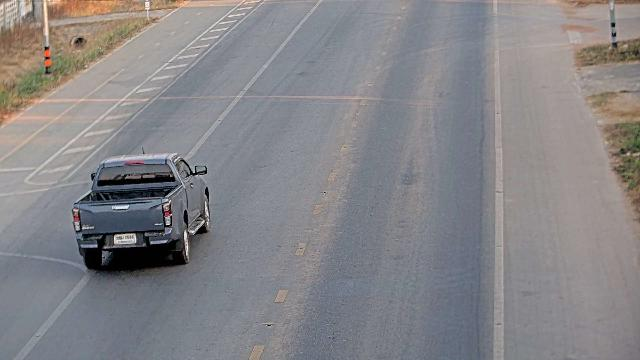pickup-truck: (71, 148, 211, 270)
